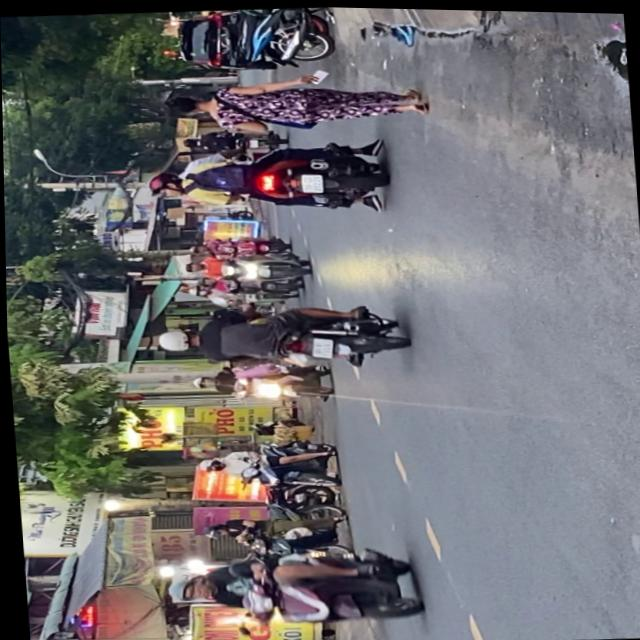helmet: (163, 576, 208, 603), (154, 327, 195, 353), (145, 170, 185, 193), (193, 457, 222, 473), (188, 375, 214, 388)
licenseplate: (158, 539, 424, 636), (141, 133, 389, 221), (150, 296, 408, 376), (192, 434, 340, 493), (186, 356, 335, 407)
nohelmet: (309, 336, 332, 358), (299, 172, 323, 192)
